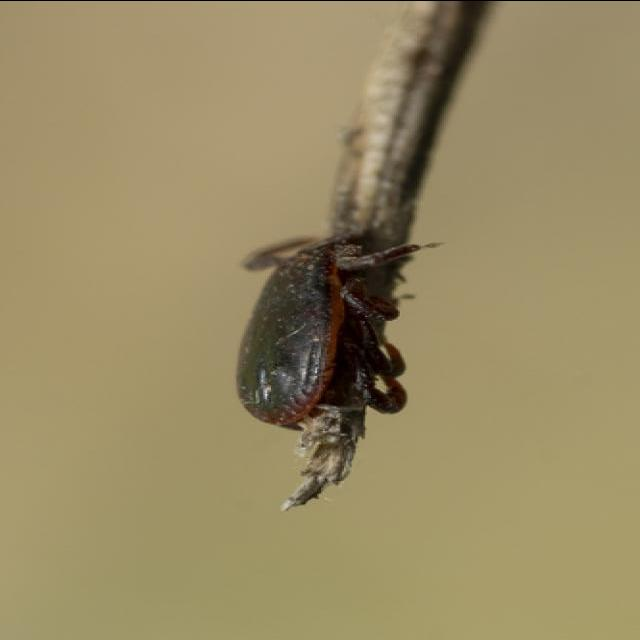Rhipicephalus Sanguineus-M: (236, 229, 444, 429)
